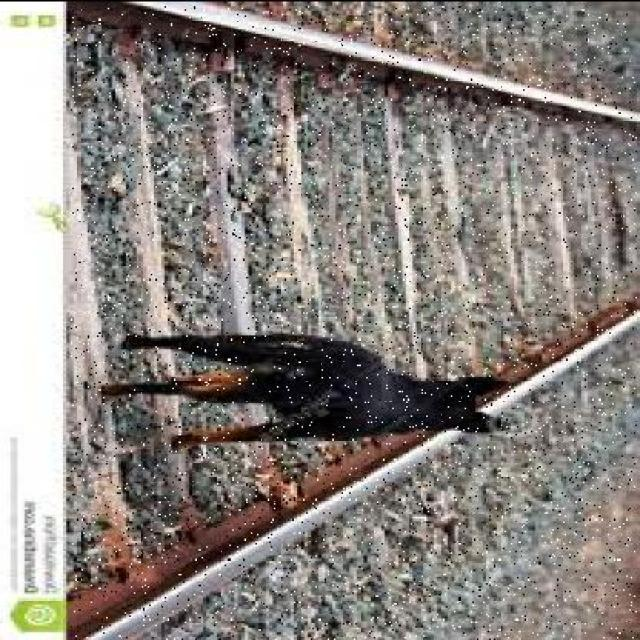danger: (92, 334, 517, 456)
rail: (71, 5, 637, 640)
